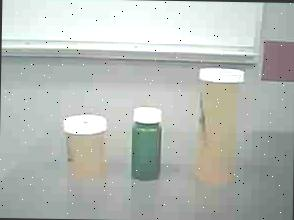Bottle A: (185, 63, 251, 194)
Bottle B: (58, 108, 118, 178)
Bottle C: (122, 94, 168, 186)
